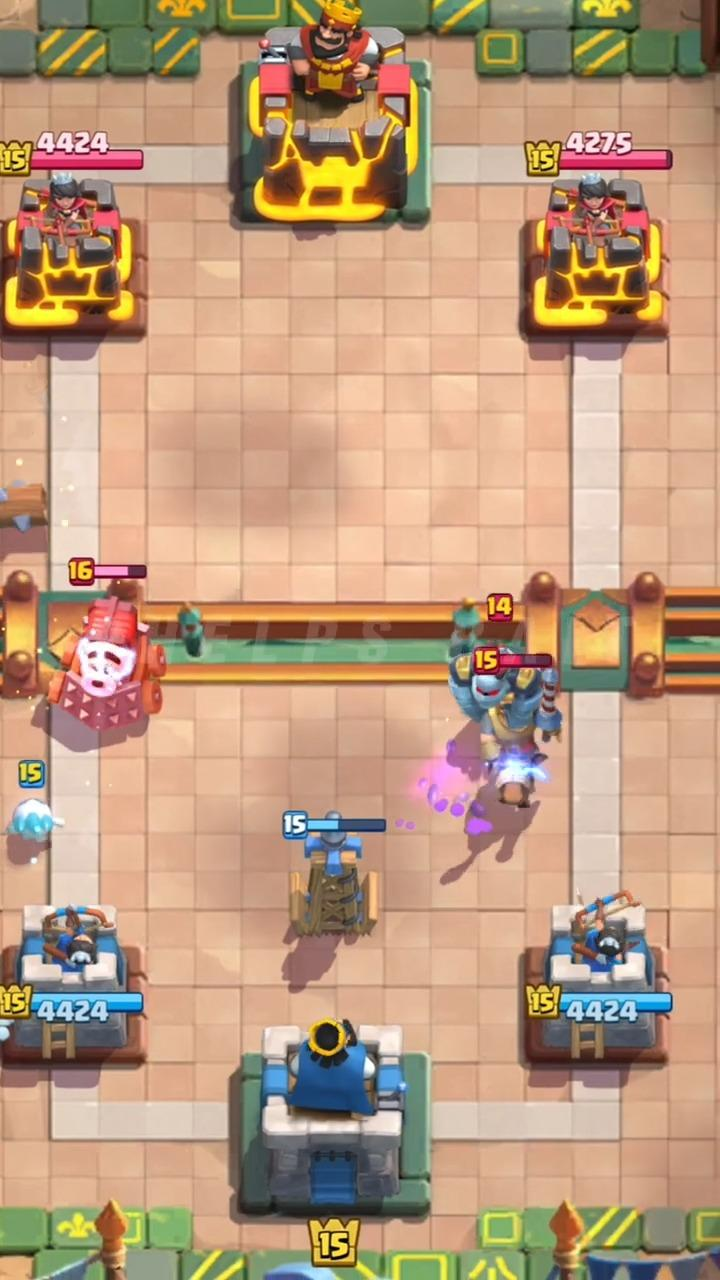ice spirit: (6, 798, 64, 844)
log: (0, 482, 46, 532)
mega minion: (451, 649, 549, 726)
prince: (481, 670, 561, 807)
sparky: (48, 594, 165, 735)
tesla: (290, 810, 377, 938)
